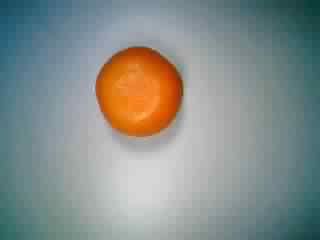orange: (91, 43, 186, 137)
